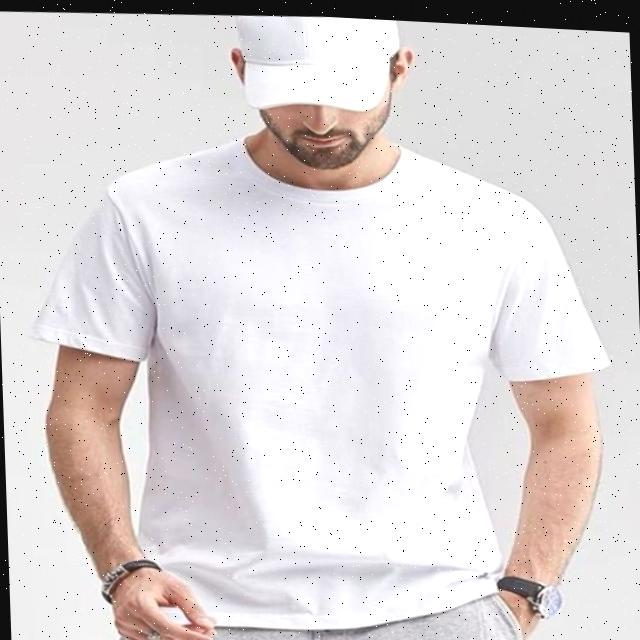Upper-Body: (30, 132, 614, 628)
